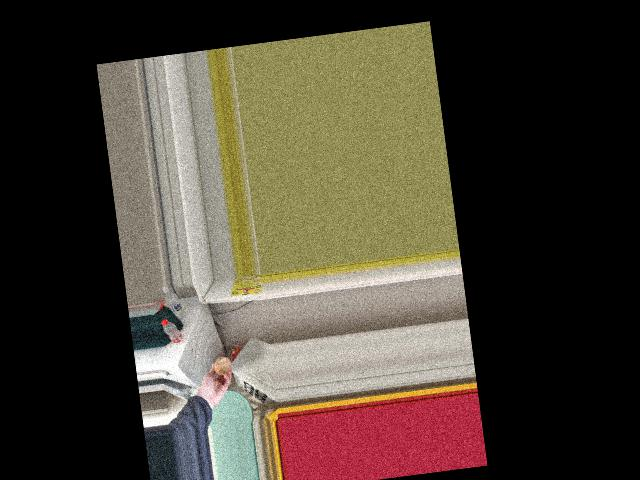sweet_potato: (213, 356, 231, 378)
